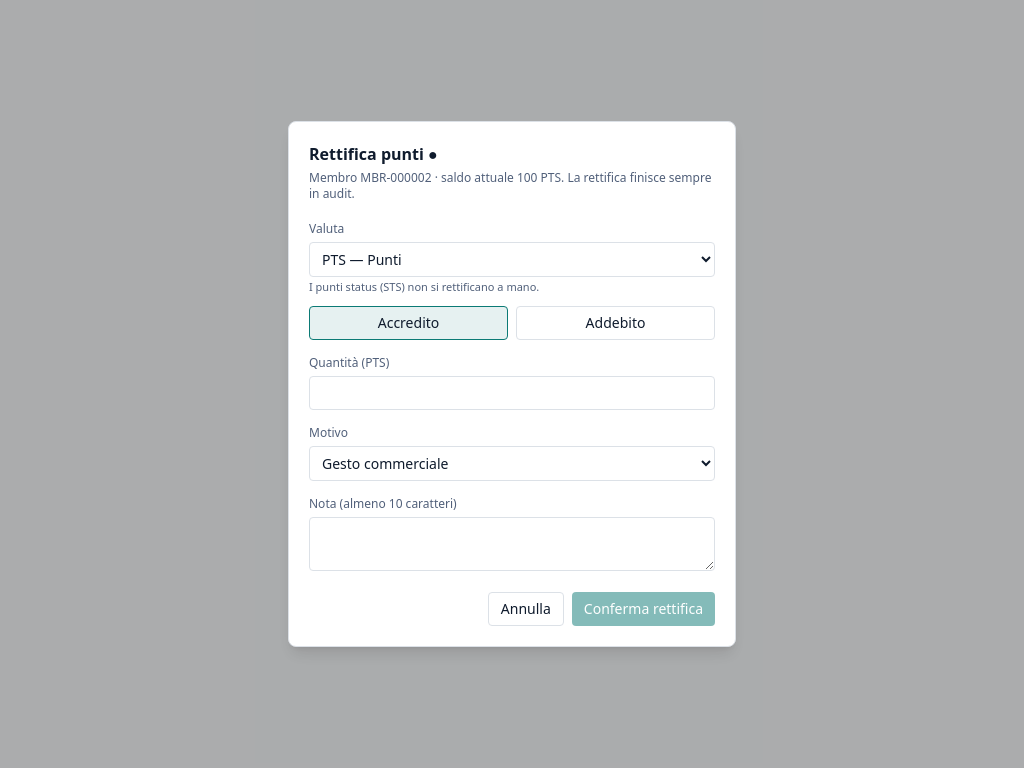
Test: [TB-WEB-ADJ-004] quantità 1 e nota di 10 caratteri → conferma abilitata
The width and height of the screenshot is (1024, 768).
Type "1" into the number field. click: (512, 393)
box: [309,376,715,410]
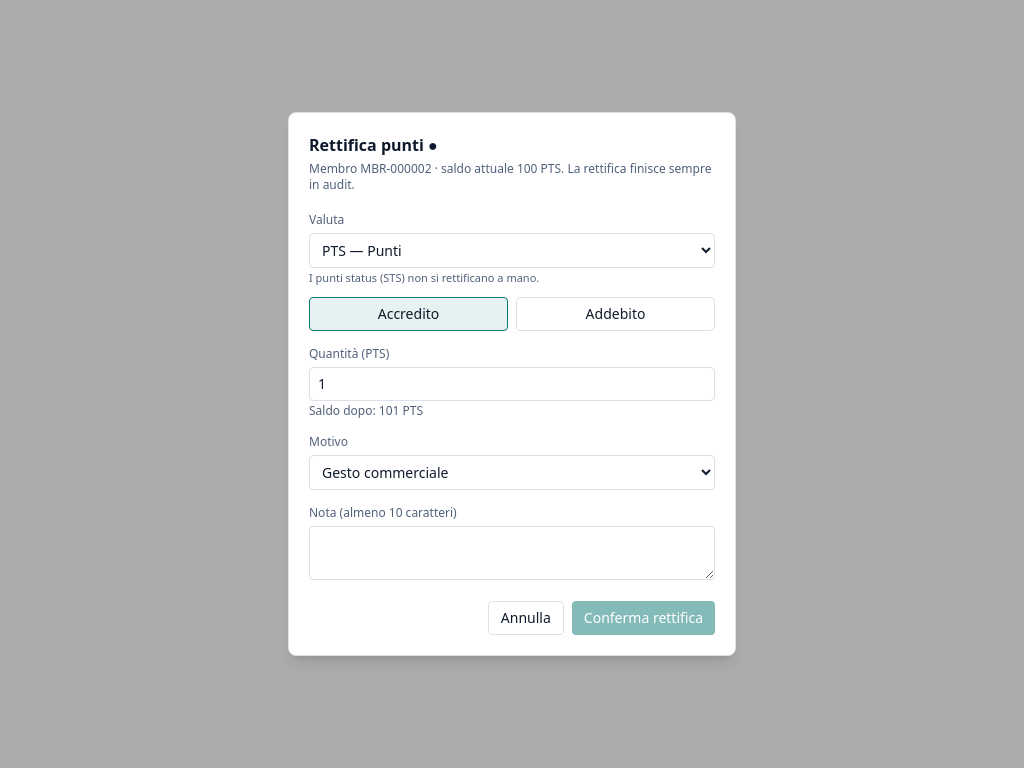
Type "1234567890" into the text box. click: (512, 553)
box: [309,526,715,580]
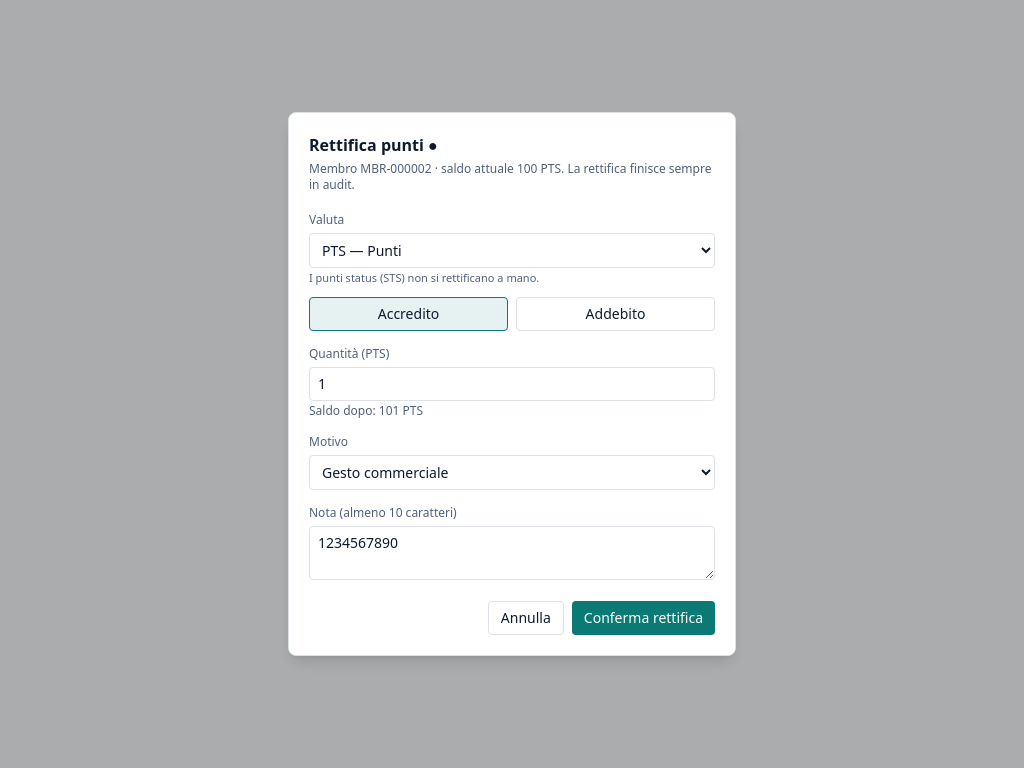
Now the button "Conferma rettifica" is enabled, box [572,601,715,635]
